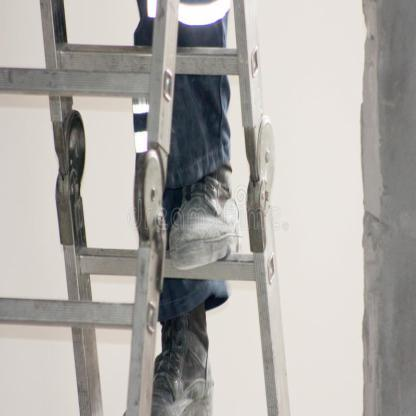bota: (166, 164, 245, 272), (150, 304, 216, 416)
